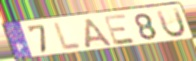7: (26, 23, 49, 54)
8: (134, 13, 158, 41)
A: (84, 17, 115, 49)
E: (102, 13, 138, 47)
L: (52, 20, 84, 52)
U: (154, 6, 188, 40)
